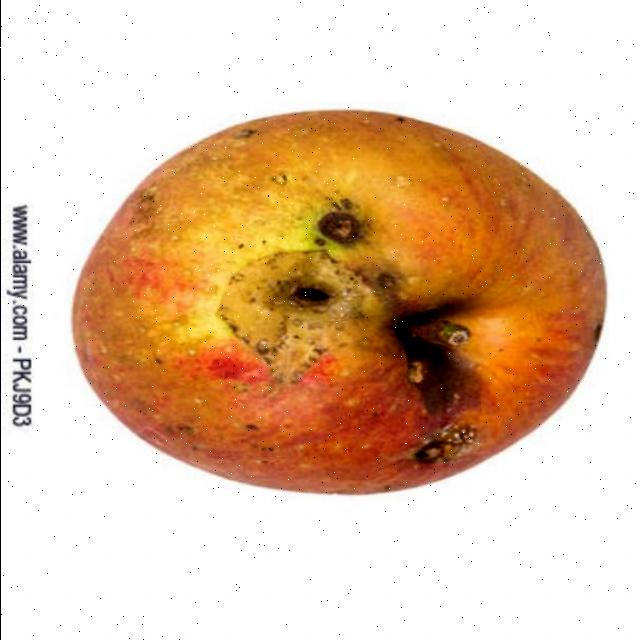SCAB: (80, 100, 592, 536)
